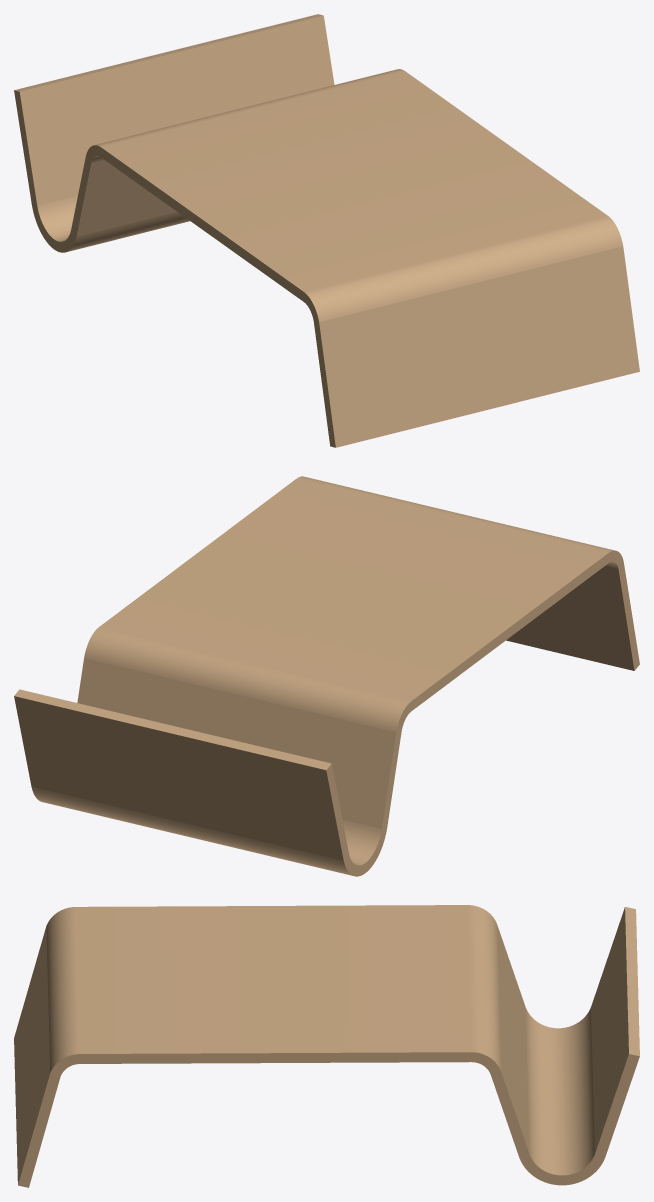
3 views of the same model, one above another, from view 1: azimuth 30°, elevation 25°; view 2: azimuth 150°, elevation 25°; view 3: azimuth 270°, elevation 25° (orthographic). The views are drawn at different scales.
Parts seen in each view (by area): view 1: bent_sheet; view 2: bent_sheet; view 3: bent_sheet.
Part boxes in pixels (x1,y1,x2,y2): bent_sheet: [14, 14, 639, 447]; bent_sheet: [14, 476, 639, 876]; bent_sheet: [14, 905, 639, 1187].
Bounding box in the file's own units: 0.453 × 0.188 × 0.798.
